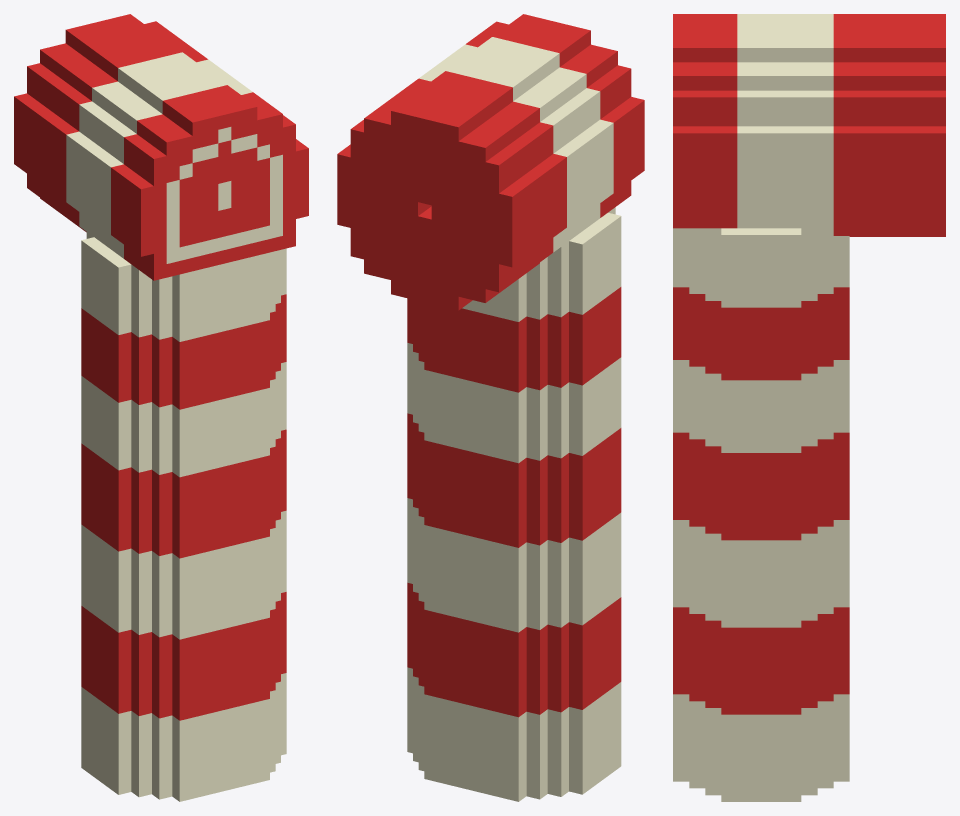
Rendered from tower2_side.obj.
The picture shows the model from 3 angles, left to right: view 1: azimuth 30°, elevation 25°; view 2: azimuth 150°, elevation 25°; view 3: azimuth 270°, elevation 25°; orthographic projection. The views are drawn at different scales.
Size of the model in its own units: 1.3 by 5 by 1.7.
1 material, 1 textured.
